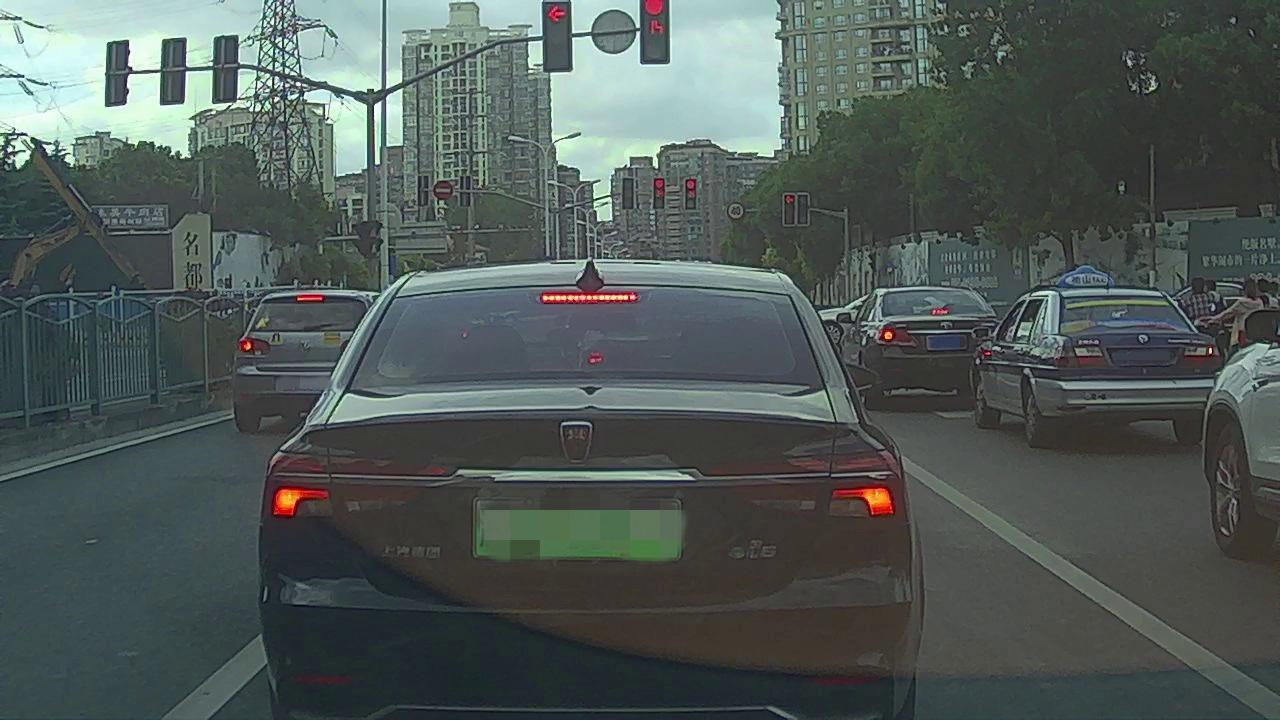traffic_light: (543, 1, 571, 70), (641, 1, 669, 63), (796, 195, 809, 226), (783, 193, 795, 226), (652, 179, 664, 208), (685, 179, 696, 210), (622, 179, 633, 209)
